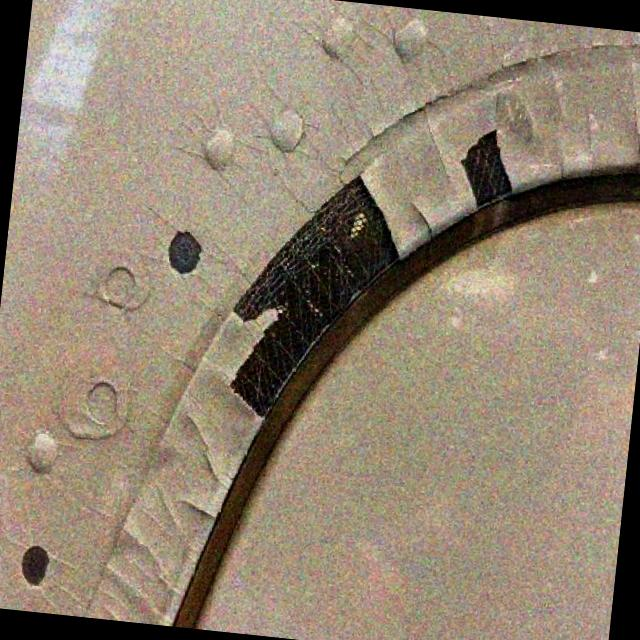crack: (408, 205, 434, 236), (183, 417, 211, 445), (180, 498, 214, 518), (200, 452, 220, 479)
